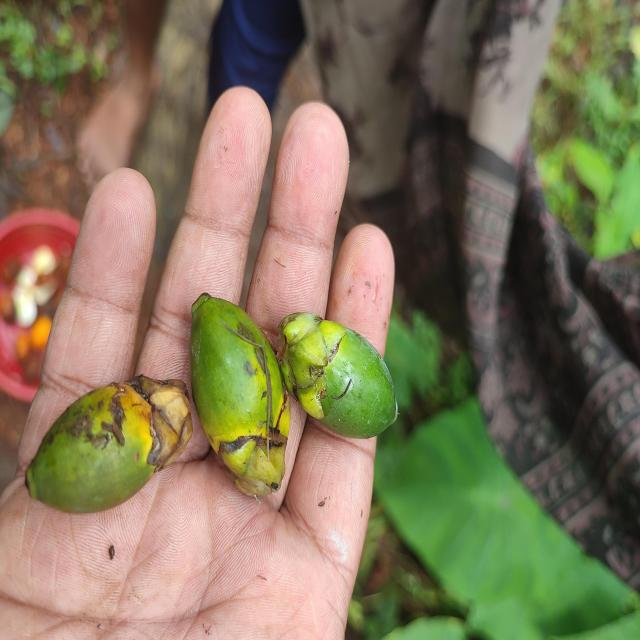damaged: (24, 378, 193, 516), (190, 295, 289, 507), (280, 314, 398, 441)
